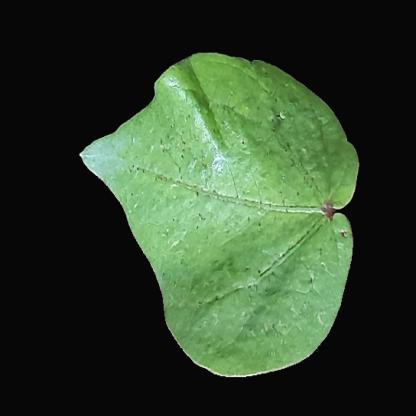healthy: (170, 118, 314, 313), (113, 141, 159, 207)
